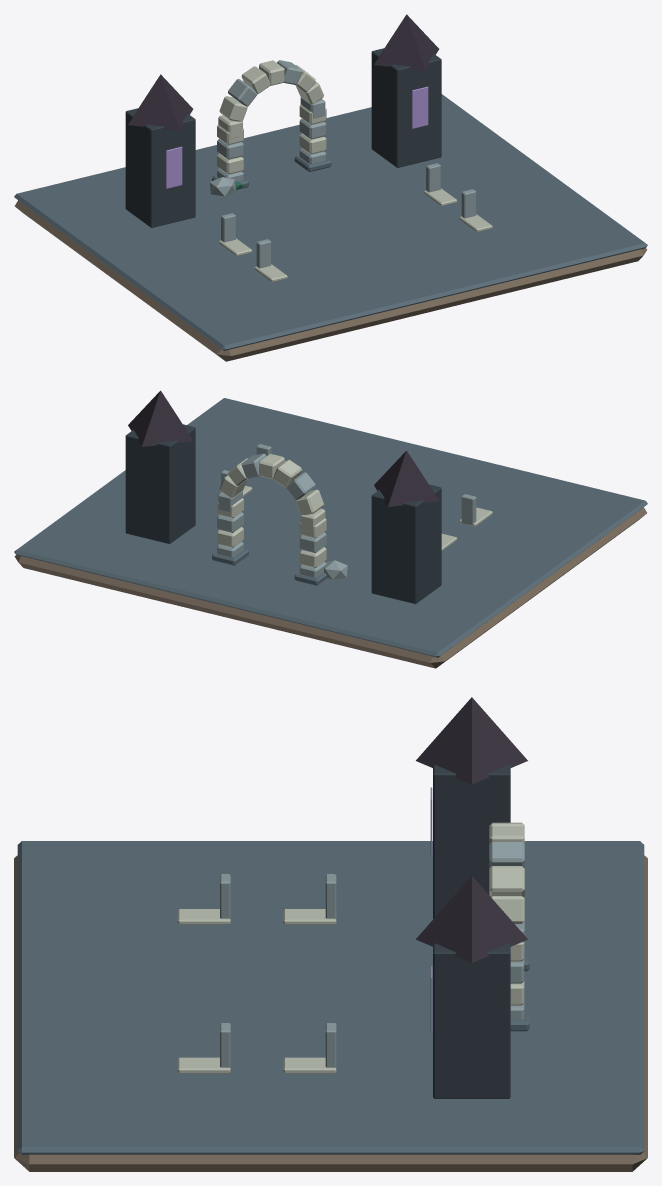
File: world-gothic.glb
3 renders of one model, top to bottom at view 1: azimuth 30°, elevation 25°; view 2: azimuth 150°, elevation 25°; view 3: azimuth 270°, elevation 25°, orthographic. The views are drawn at different scales.
Parts seen in each view (by area): view 1: terrain-top, terrain-stratum, gothic-tower, gothic-tower.001, spire.001, spire, stained-glass, stained-glass.001, arch-stone.016, arch-stone.014; view 2: terrain-top, terrain-stratum, gothic-tower, gothic-tower.001, spire, spire.001, arch-stone.014, arch-stone.016, arch-stone.015, gravestone, arch-stone.013, pillar-stone.009 (+1 smaller); view 3: terrain-top, terrain-stratum, gothic-tower.001, gothic-tower, spire.001, spire, arch-stone.011, arch-stone.012, grave.002, grave.003, grave.001, grave.
Part boxes in pixels (x1,y1,x2,y2): terrain-top: [14, 94, 647, 350]; terrain-stratum: [14, 200, 647, 361]; gothic-tower: [125, 108, 195, 227]; gothic-tower.001: [371, 48, 441, 167]; spire.001: [374, 14, 439, 70]; spire: [128, 74, 193, 130]; stained-glass: [166, 146, 182, 188]; stained-glass.001: [412, 86, 428, 128]; arch-stone.016: [219, 96, 247, 121]; arch-stone.014: [241, 66, 269, 94]; terrain-top: [14, 398, 647, 657]; terrain-stratum: [14, 507, 646, 668]; gothic-tower: [371, 484, 441, 604]; gothic-tower.001: [125, 424, 195, 543]; spire: [374, 450, 438, 506]; spire.001: [128, 390, 192, 446]; arch-stone.014: [273, 459, 301, 487]; arch-stone.016: [296, 489, 323, 514]; arch-stone.015: [286, 472, 315, 500]; gravestone: [461, 494, 476, 525]; arch-stone.013: [259, 454, 284, 479]; pillar-stone.009: [299, 547, 326, 567]; terrain-top: [17, 841, 644, 1154]; terrain-stratum: [14, 855, 647, 1171]; gothic-tower.001: [433, 943, 510, 1098]; gothic-tower: [433, 764, 510, 918]; spire.001: [415, 876, 527, 962]; spire: [416, 697, 527, 784]; arch-stone.011: [489, 866, 524, 896]; arch-stone.012: [489, 842, 524, 868]; grave.002: [177, 1057, 230, 1073]; grave.003: [283, 1057, 336, 1073]; grave.001: [283, 909, 336, 924]; grave: [177, 909, 230, 924].
Bounding box in the file's own units: 21 × 7.39 × 18.
